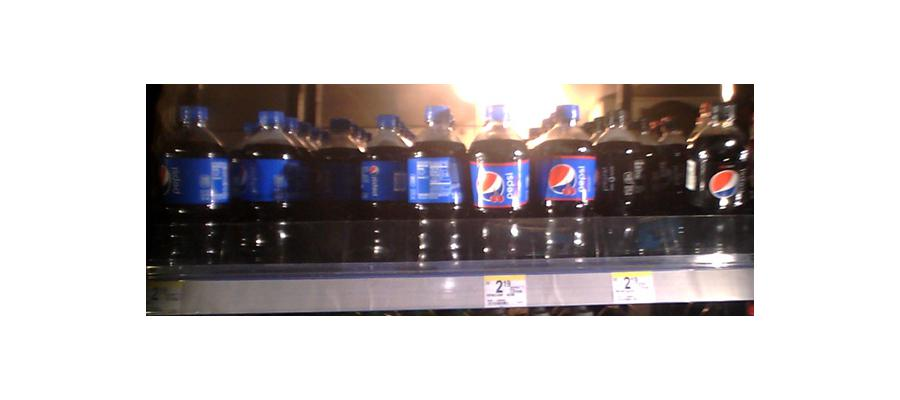bottle: (229, 108, 308, 259), (163, 98, 229, 261), (408, 101, 470, 268), (536, 104, 598, 259), (469, 106, 530, 255), (311, 114, 366, 262), (362, 108, 411, 267)
